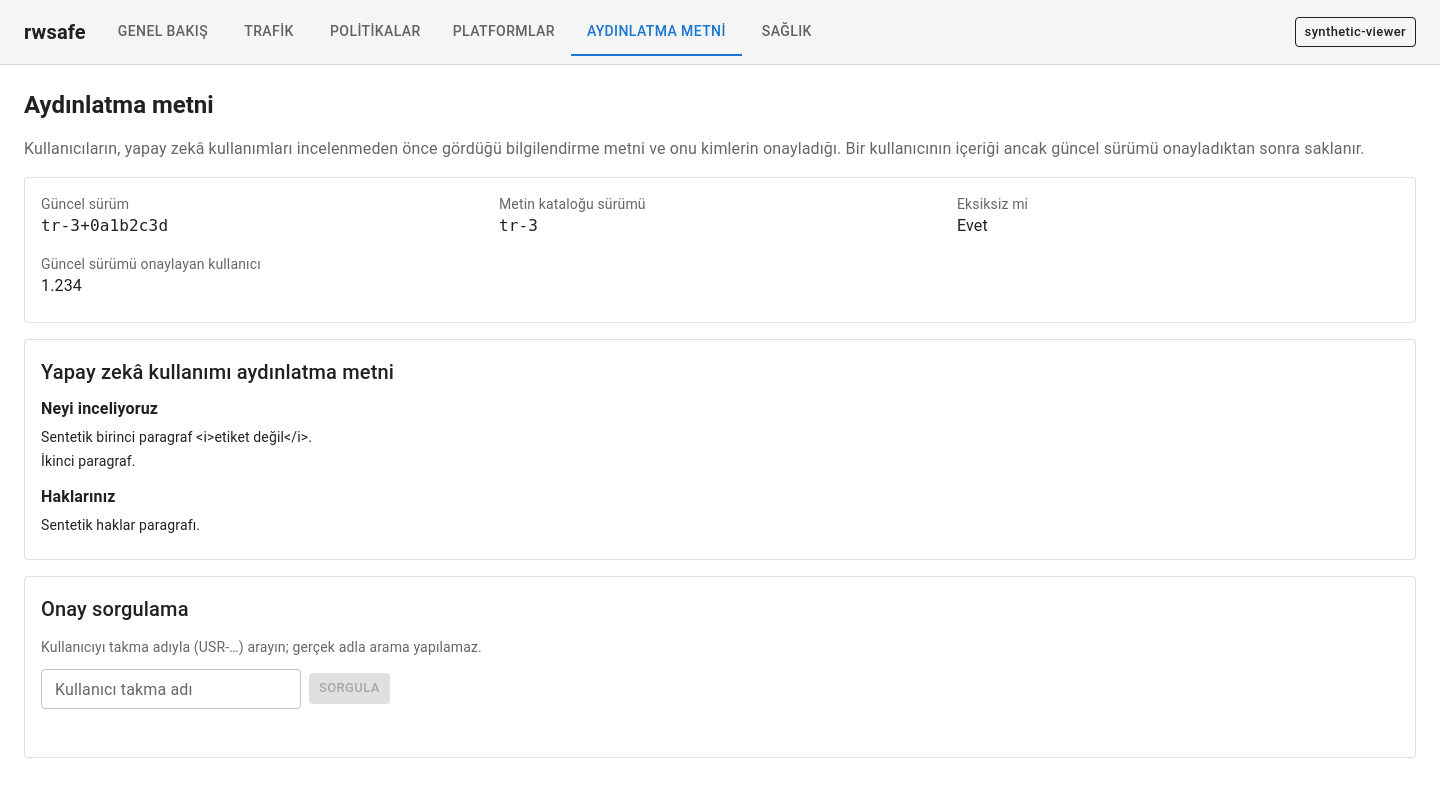
Scenario: notice screen › shows a user without the current acknowledgement and the server's refusal
Type "USR-00000000ff" into the field labelled "Kullanıcı takma adı".
click(171, 689); type("USR-00000000ff")  # box [41,669,301,709]
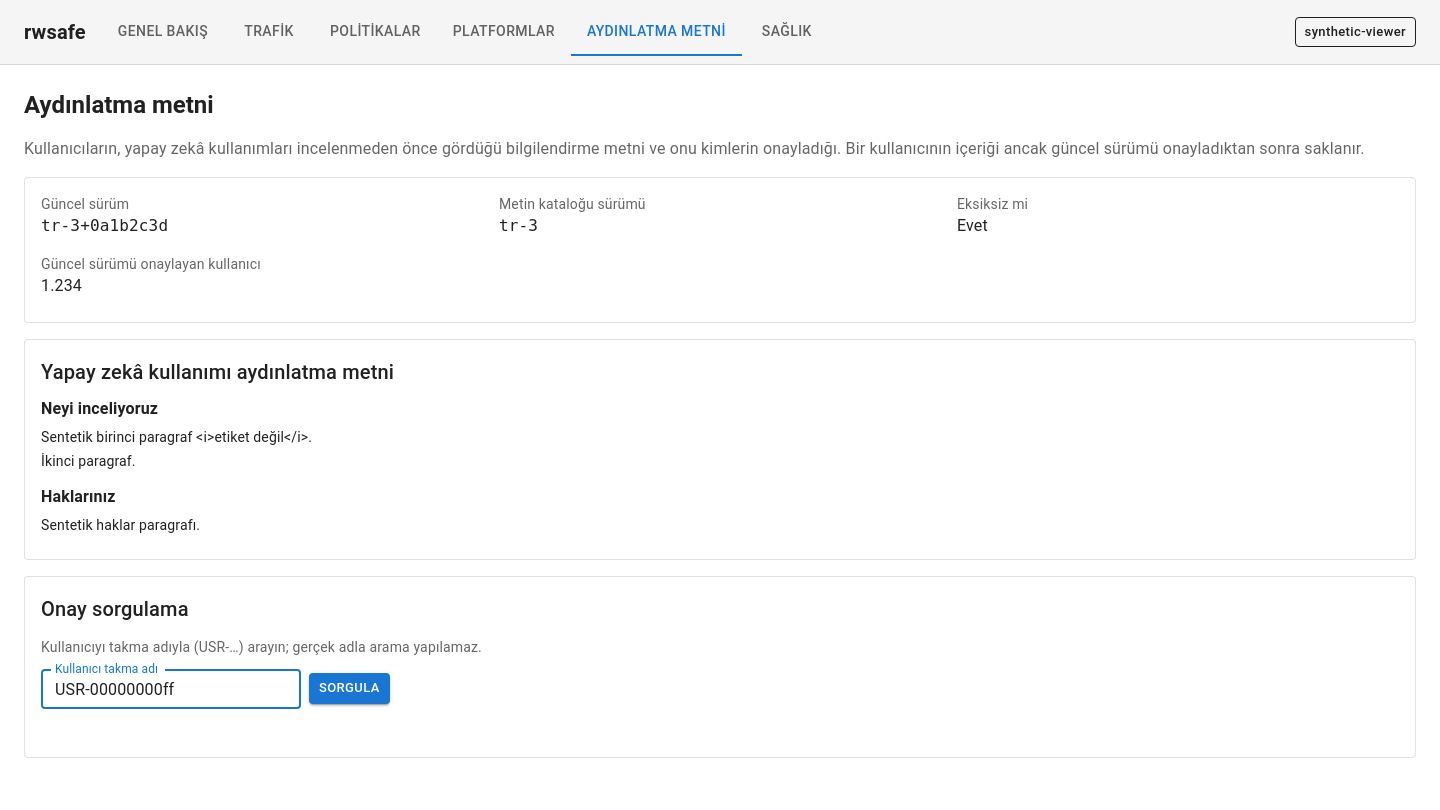
Click the button "Sorgula".
click(349, 688)  # box [309,673,390,704]
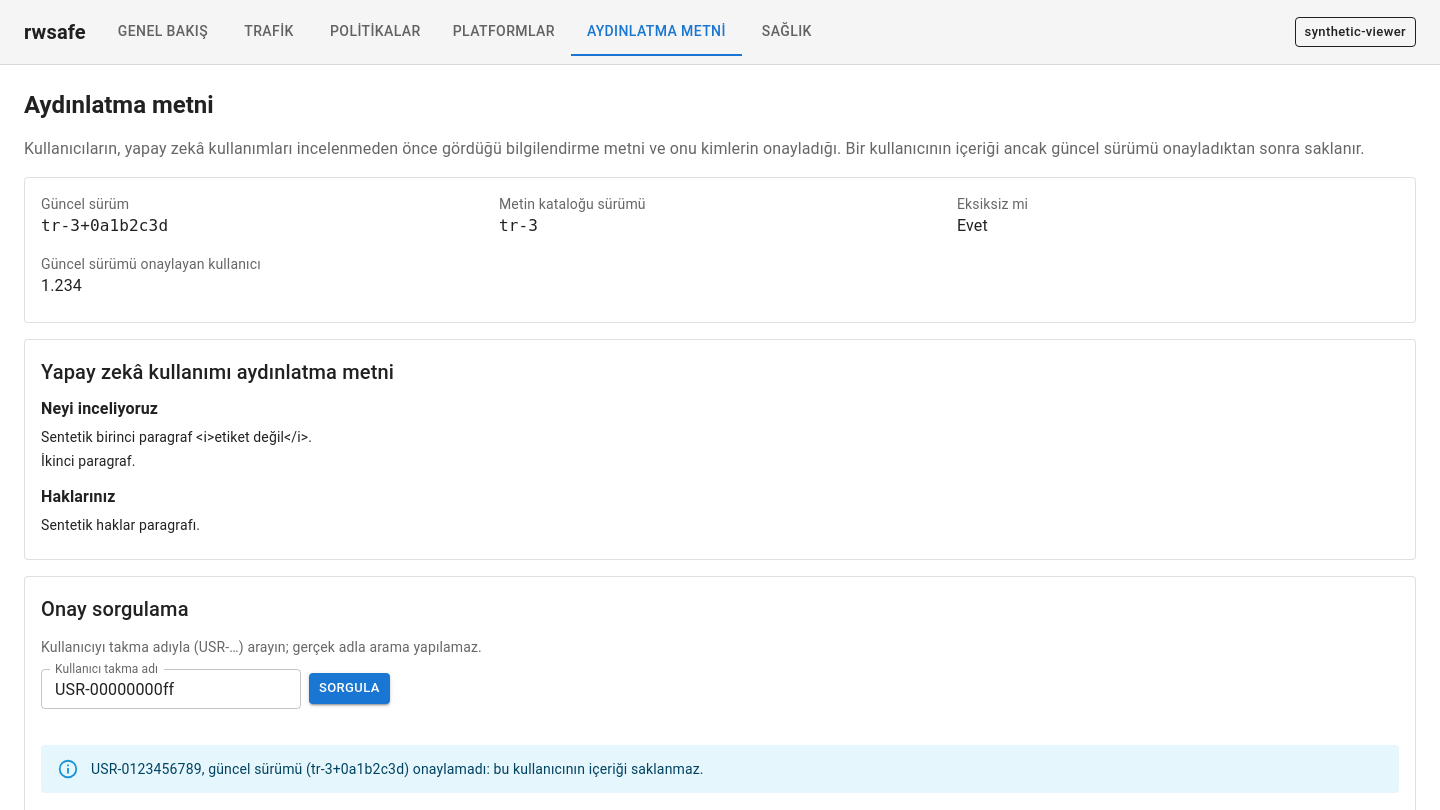
expect the text "onaylamadı: bu kullanıcının içeriği saklanmaz" is shown: met, box [91,761,704,777]
Click the button "Sorgula".
click(349, 688)  # box [309,673,390,704]
(page scrolled)
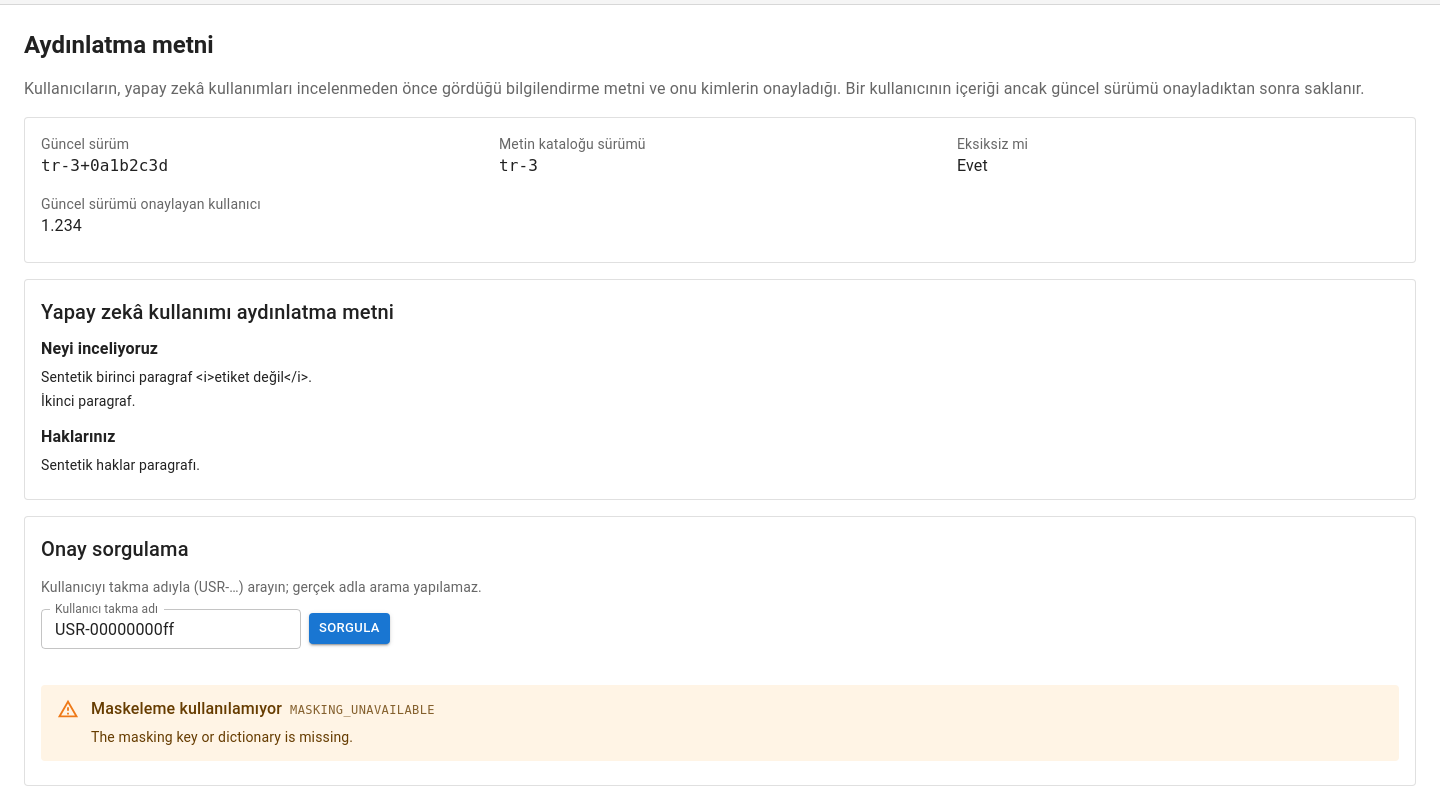
expect the message shows "MASKING_UNAVAILABLE": met, box [290,703,435,717]
expect the message shows "Maskeleme kullanılamıyor": met, box [91,699,282,718]
expect the message shows "The masking key or dictionary is missing.": met, box [91,729,353,745]
